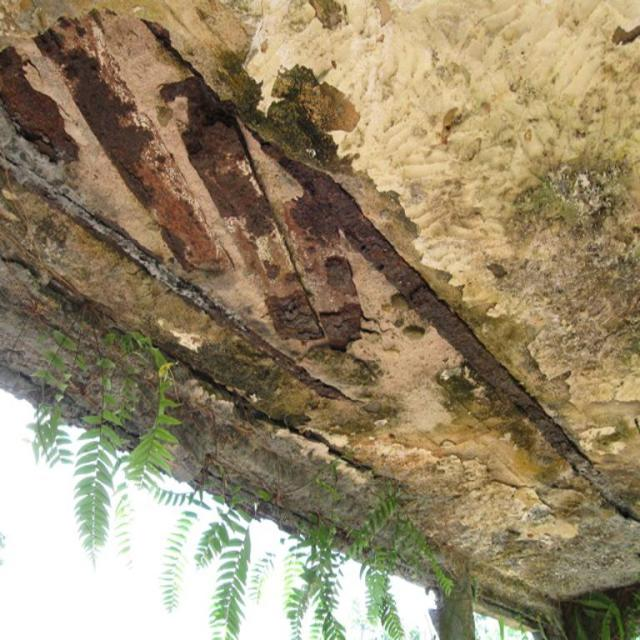spalling: (132, 18, 639, 535), (0, 46, 360, 407), (0, 169, 372, 473), (30, 7, 235, 290)
